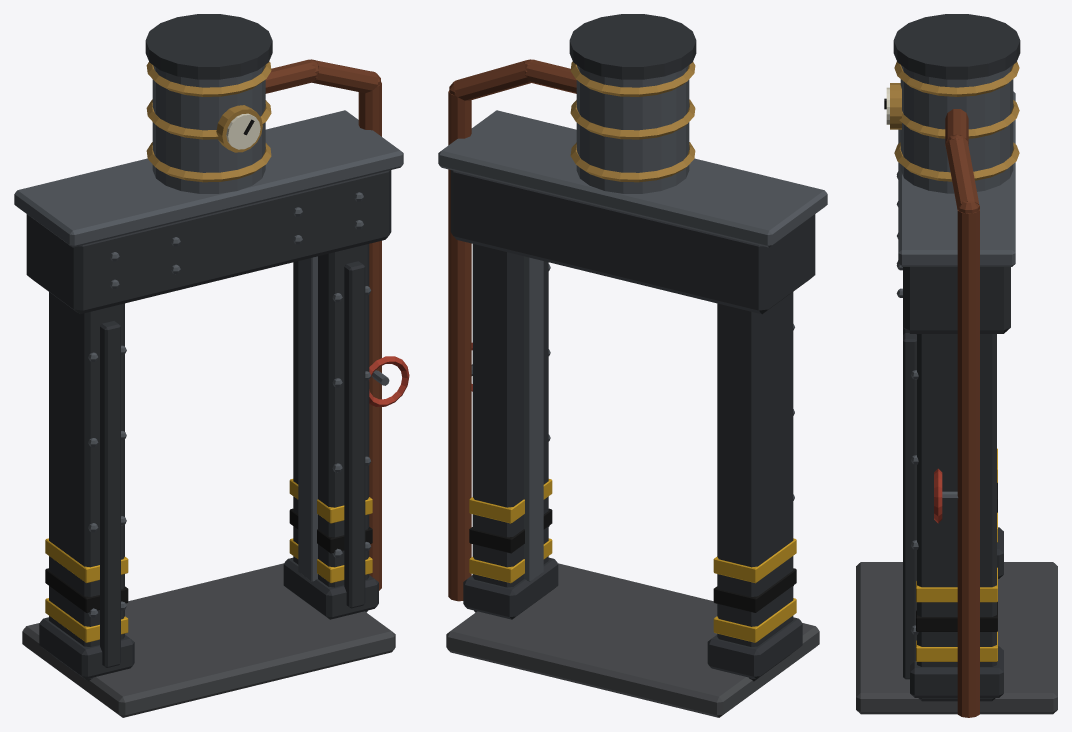
The model's file is press_frame.glb.
The picture shows the model from 3 angles, left to right: view 1: azimuth 30°, elevation 25°; view 2: azimuth 150°, elevation 25°; view 3: azimuth 270°, elevation 25°; orthographic projection.
Parts seen in each view (by area): view 1: PressFrame; view 2: PressFrame; view 3: PressFrame.
Part boxes in pixels (box(x1,y1,x2,y2)): PressFrame: box(14, 14, 409, 717); PressFrame: box(438, 14, 827, 717); PressFrame: box(856, 14, 1057, 717).
Size of the model in its own units: 1.76 by 2.86 by 0.86.
